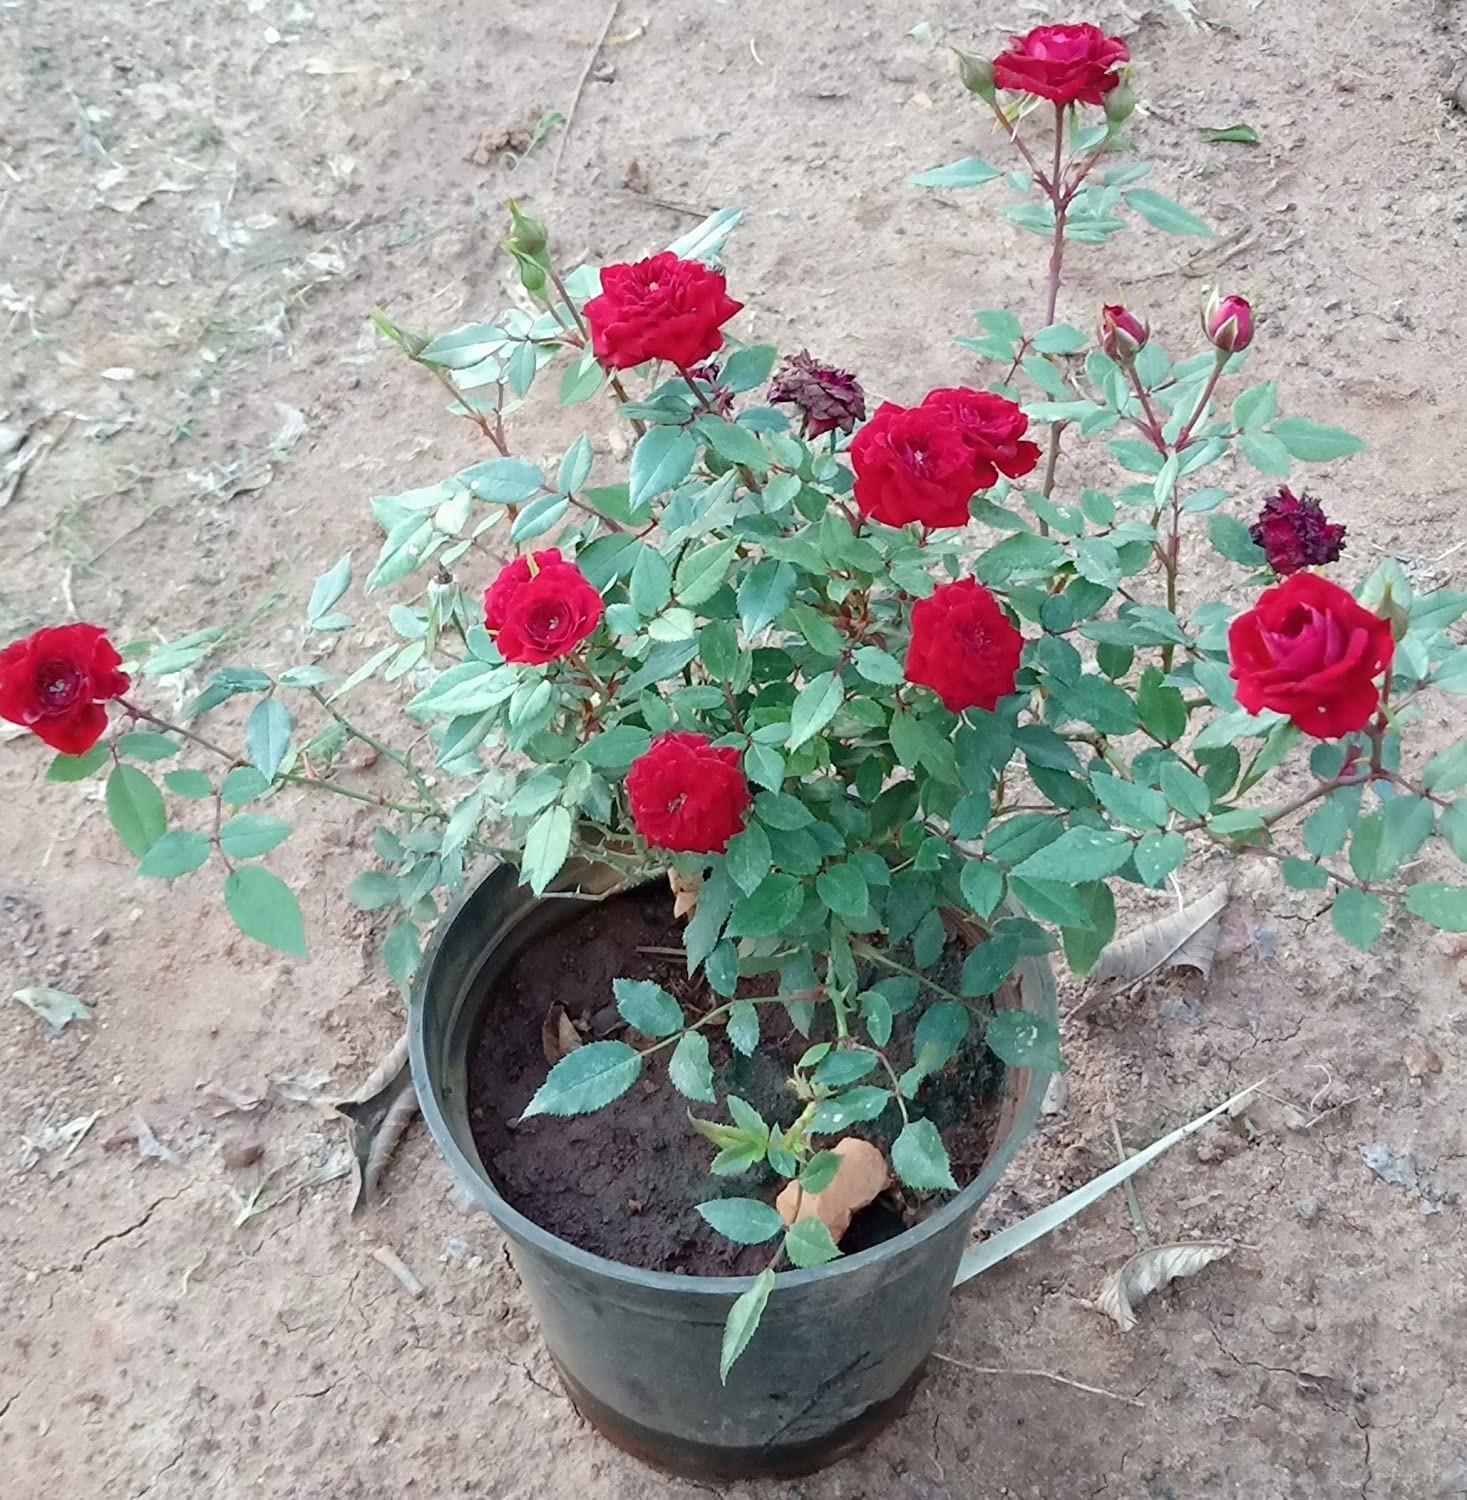rose: (1218, 572, 1421, 760), (606, 724, 770, 872), (465, 549, 623, 684), (580, 246, 738, 376), (840, 406, 987, 540), (897, 573, 1025, 718), (1, 618, 128, 757), (916, 377, 1042, 494), (989, 21, 1127, 124)
